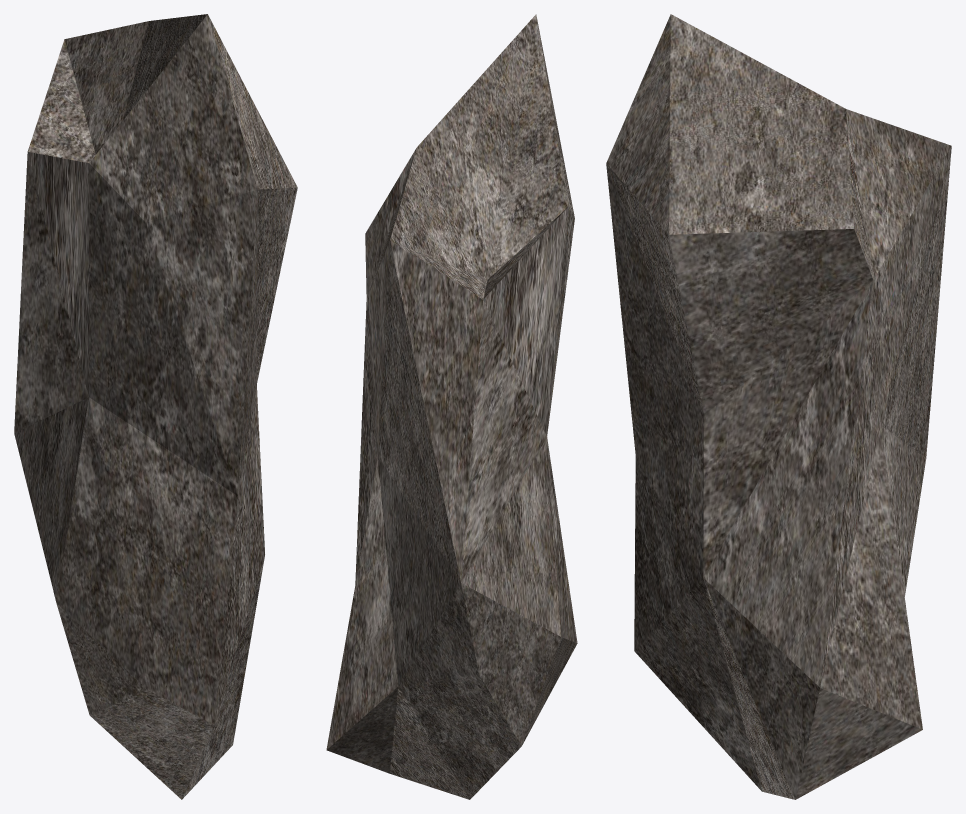
File: Rock1.glb
The picture shows the model from 3 angles, left to right: view 1: azimuth 30°, elevation 25°; view 2: azimuth 150°, elevation 25°; view 3: azimuth 270°, elevation 25°; orthographic projection. The views are drawn at different scales.
Visible parts, largest first — view 1: Cube; view 2: Cube; view 3: Cube.
Boxes of the visible parts, x1,y1,x2,y2 form: Cube: (14,14,297,799); Cube: (326,14,577,799); Cube: (606,14,951,799).
Bounding box in the file's own units: 2.96 × 11.18 × 4.57.
Materials: 1 (1 with a texture image).
